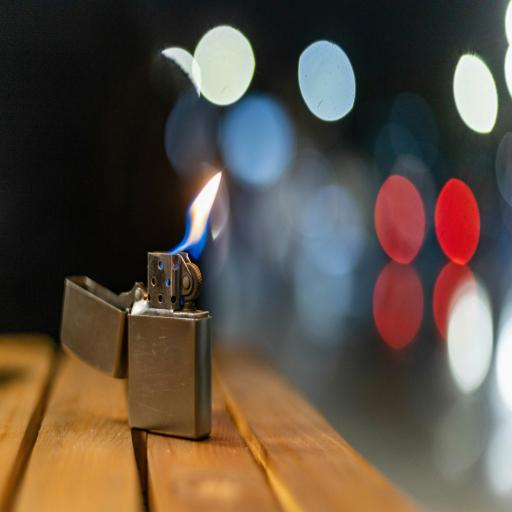lighter: (51, 142, 259, 450)
